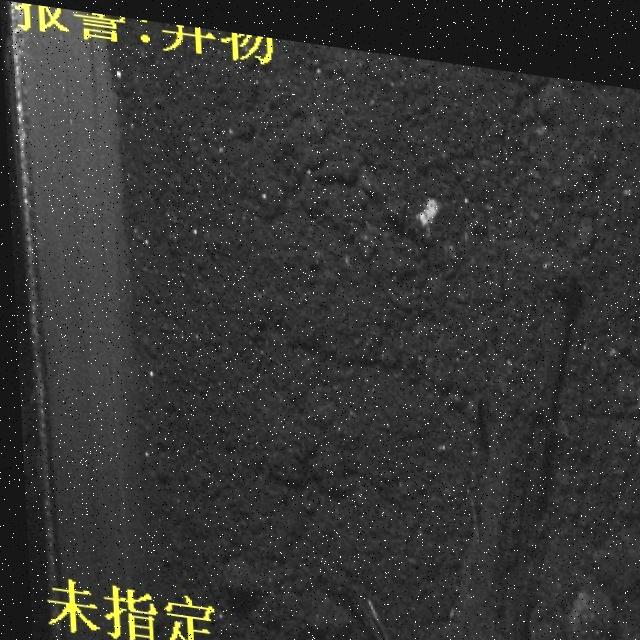bolt: (434, 233, 574, 640)
large_sized_coal: (523, 561, 612, 640)
